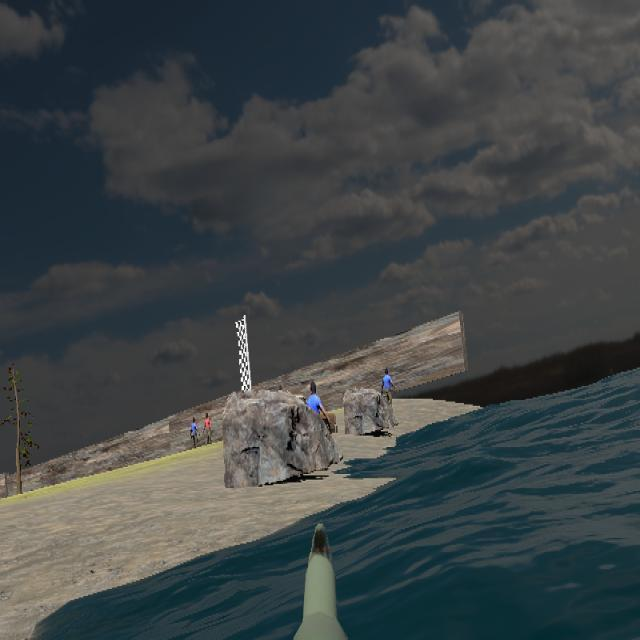Human: (380, 366, 395, 431)
